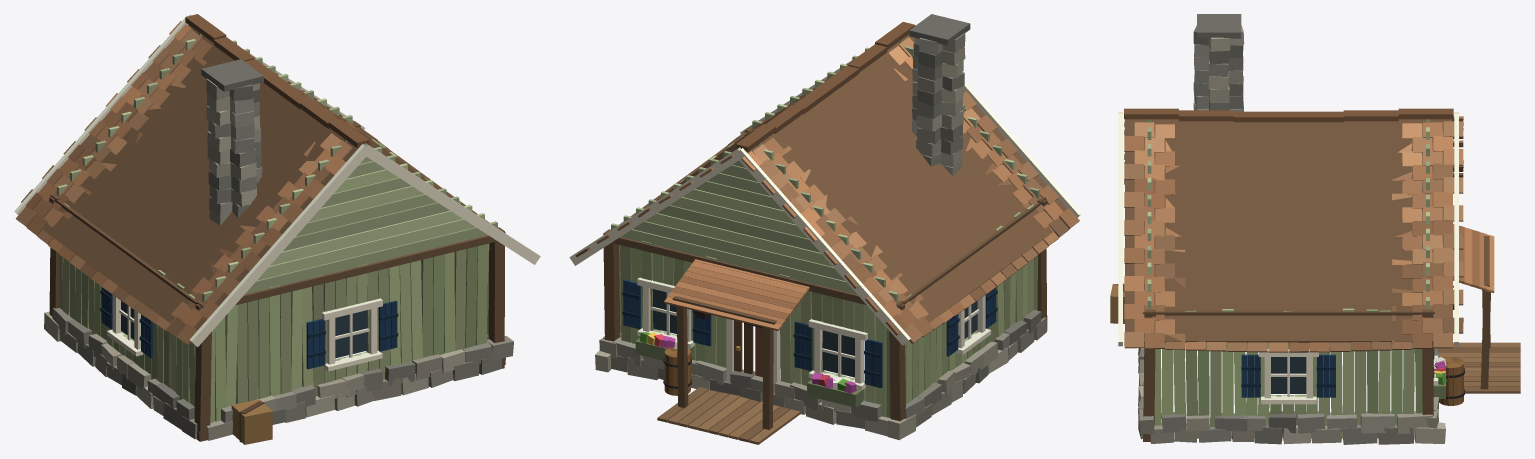
Rendered from casa_1.glb.
3 views of the same model, side by side, from view 1: azimuth 30°, elevation 25°; view 2: azimuth 150°, elevation 25°; view 3: azimuth 270°, elevation 25° (orthographic). The views are drawn at different scales.
Parts seen in each view (by area): view 1: Madeira, Pedra, Telhado, Vidro; view 2: Madeira, Telhado, Pedra, Vidro; view 3: Madeira, Telhado, Pedra, Vidro.
Part boxes in pixels (bbox=[...]): Madeira: bbox=[14, 15, 540, 444]; Pedra: bbox=[44, 59, 513, 440]; Telhado: bbox=[15, 14, 388, 345]; Vidro: bbox=[121, 301, 367, 358]; Madeira: bbox=[569, 22, 1081, 444]; Telhado: bbox=[575, 22, 1079, 343]; Pedra: bbox=[595, 14, 1046, 440]; Vidro: bbox=[652, 289, 977, 377]; Madeira: bbox=[1110, 112, 1520, 441]; Telhado: bbox=[1124, 108, 1494, 352]; Pedra: bbox=[1138, 14, 1446, 444]; Vidro: bbox=[1271, 357, 1306, 393].
Bounding box in the file's own units: 8.42 × 7.4 × 8.85.
